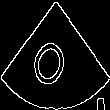O_NE: (31, 21, 79, 89)
